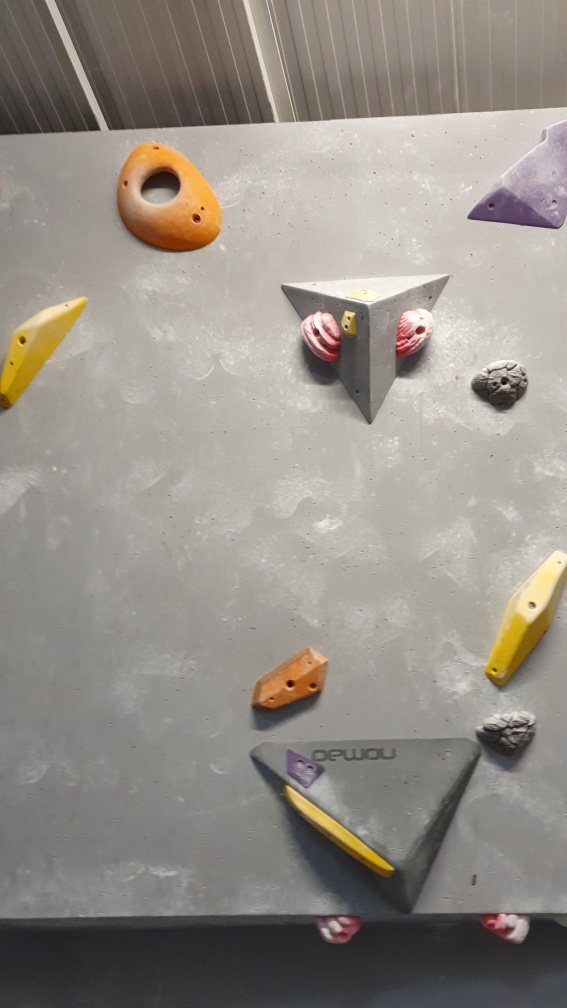Jug: (301, 309, 343, 370), (394, 307, 438, 363)
Pinch: (482, 551, 566, 689), (1, 286, 90, 416), (245, 650, 333, 712)
Pocket: (117, 138, 225, 257)
